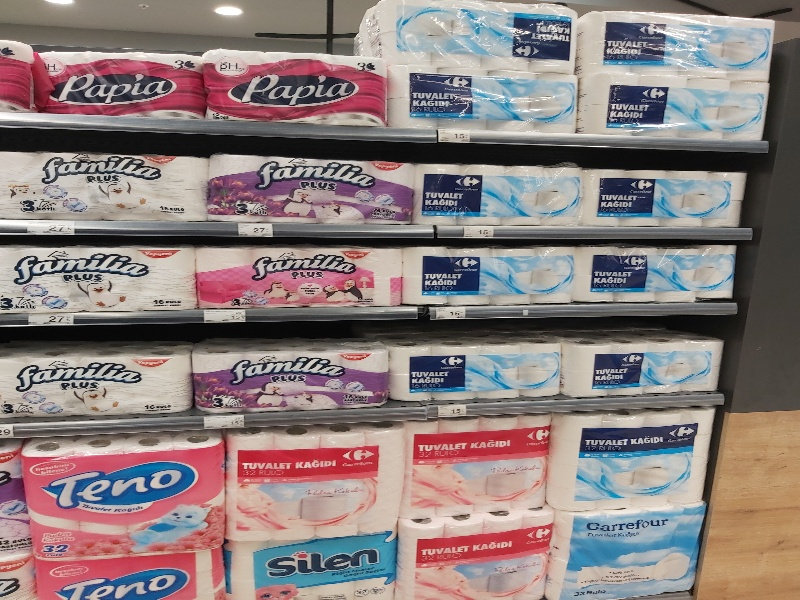urun1: (206, 42, 392, 131), (203, 156, 421, 228), (191, 240, 407, 312), (189, 337, 396, 412), (551, 509, 715, 600), (568, 7, 777, 78), (1, 339, 199, 413), (376, 1, 585, 71), (27, 46, 202, 123), (401, 162, 596, 229), (220, 536, 403, 600), (560, 333, 728, 398)
urun2: (19, 436, 234, 550), (217, 427, 411, 533), (1, 141, 207, 227), (553, 413, 711, 512), (1, 240, 199, 318), (397, 421, 562, 511), (376, 66, 585, 137), (567, 69, 776, 140), (397, 239, 583, 312), (383, 336, 566, 409), (397, 519, 556, 600), (572, 242, 743, 313), (570, 167, 754, 230), (37, 548, 224, 600)
